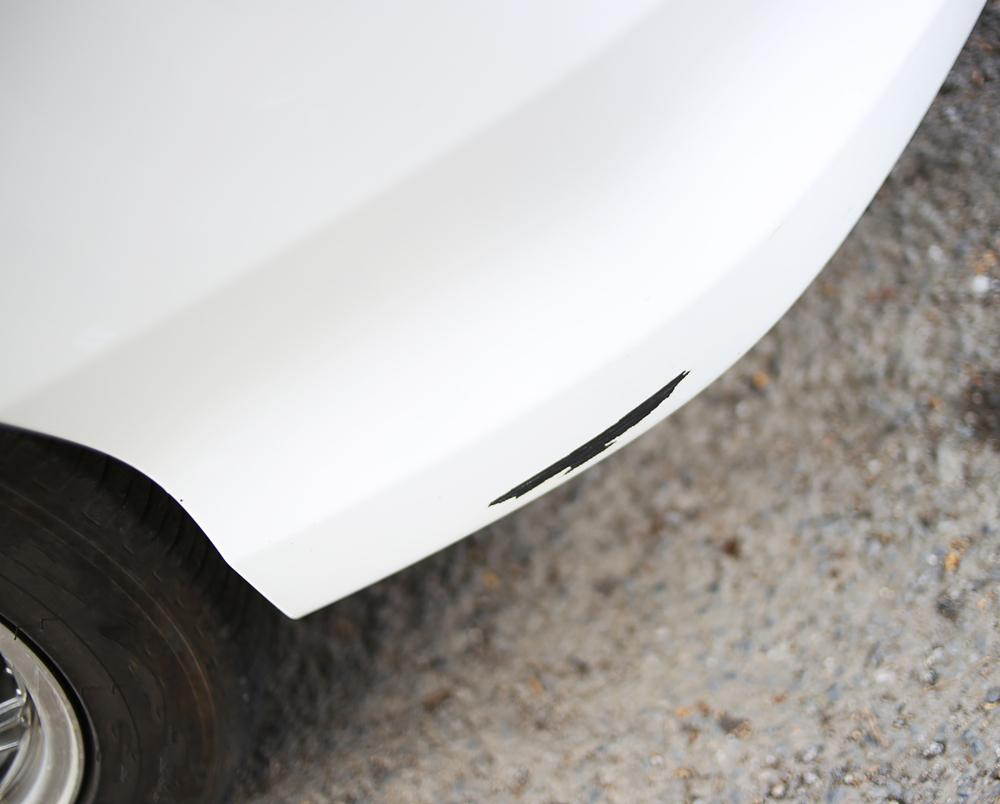scratch: (481, 369, 693, 511)
